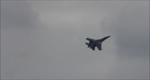maybay_muctieu: (84, 35, 111, 52)
